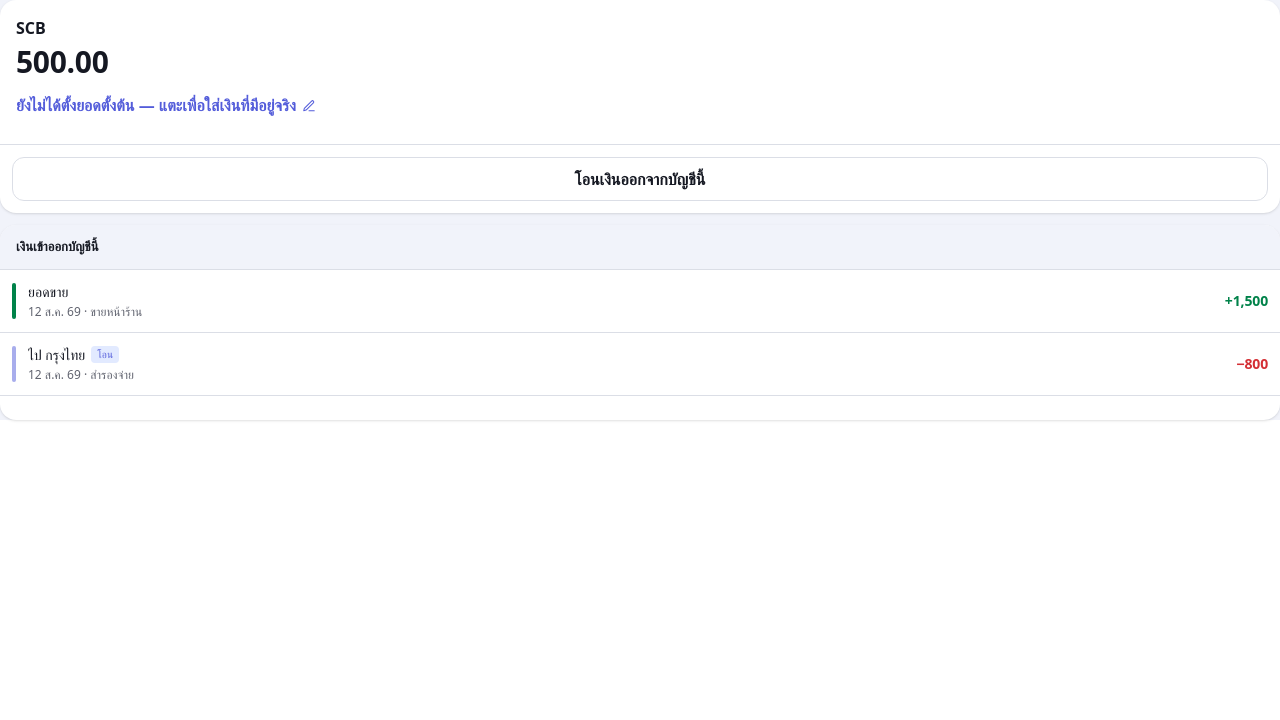
Test: ปุ่มที่ต้องหาเจอจากหน้านี้ › ยอดตั้งต้นแตะแก้ได้ตรงนี้ ไม่ต้องเดินไปหน้าตั้งค่า
Click the button "ยังไม่ได้ตั้งยอดตั้งต้น — แตะเพื่อใส่เงินที่มีอยู่จริง". click: (166, 106)
box: [16, 84, 316, 128]
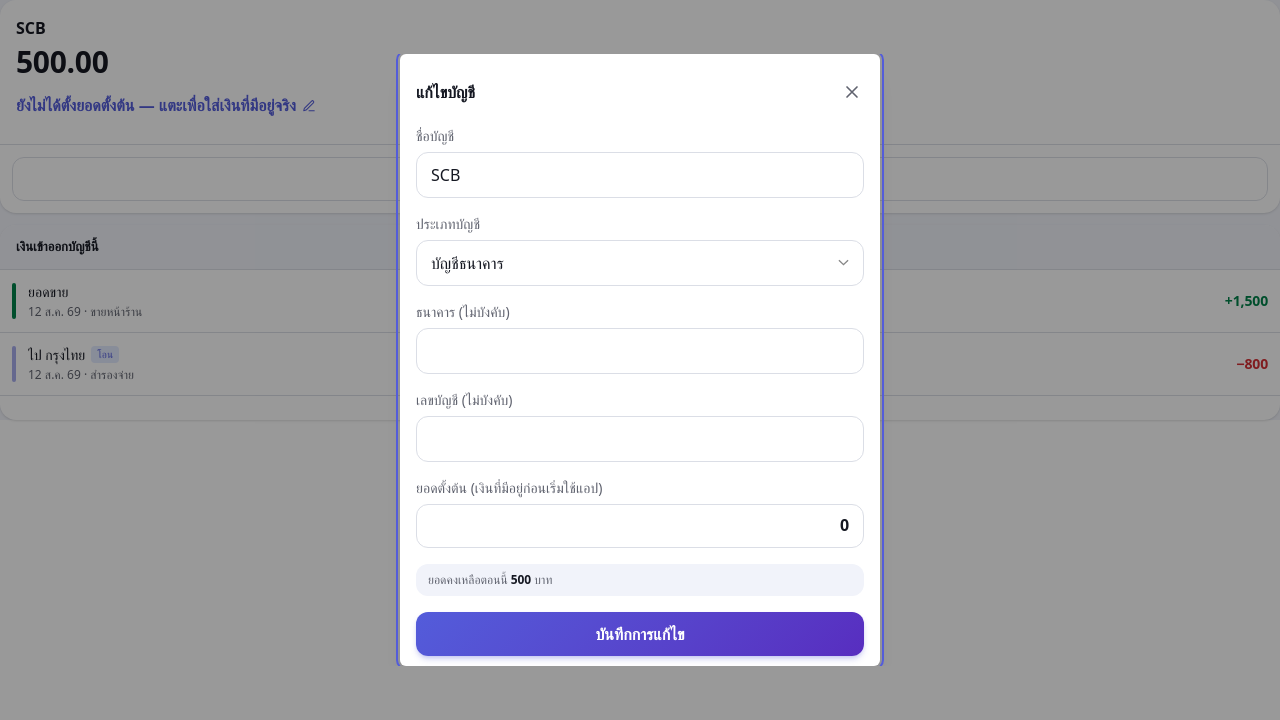
Expected: the dialog is shown, [384, 54, 896, 666]
Expected: the field labelled "ยอดตั้งต้น (เงินที่มีอยู่ก่อนเริ่มใช้แอป)" is shown, [416, 504, 864, 548]
